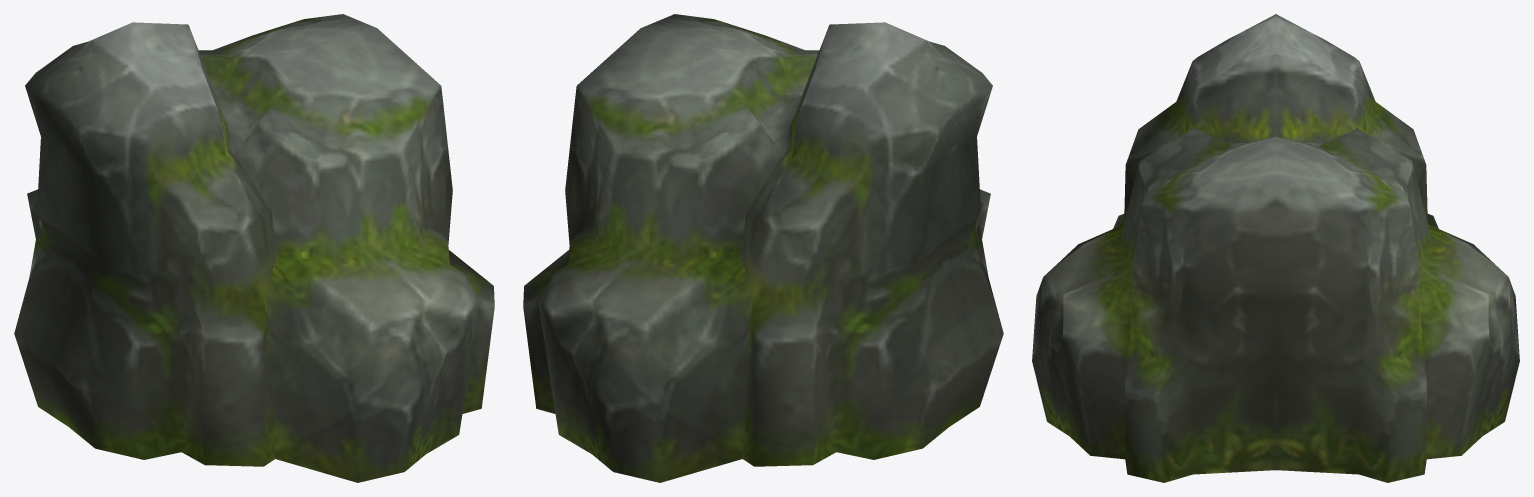
File: shitou05_01.FBX
3 views of the same model, side by side, from view 1: azimuth 30°, elevation 25°; view 2: azimuth 150°, elevation 25°; view 3: azimuth 270°, elevation 25° (orthographic). The views are drawn at different scales.
Parts seen in each view (by area): view 1: shitou05_01; view 2: shitou05_01; view 3: shitou05_01.
Part boxes in pixels (bbox=[...]): shitou05_01: bbox=[14, 14, 494, 482]; shitou05_01: bbox=[523, 14, 1003, 482]; shitou05_01: bbox=[1032, 14, 1519, 482].
Size of the model in its own units: 321 by 309 by 399.
Materials: 1 (1 with a texture image).
